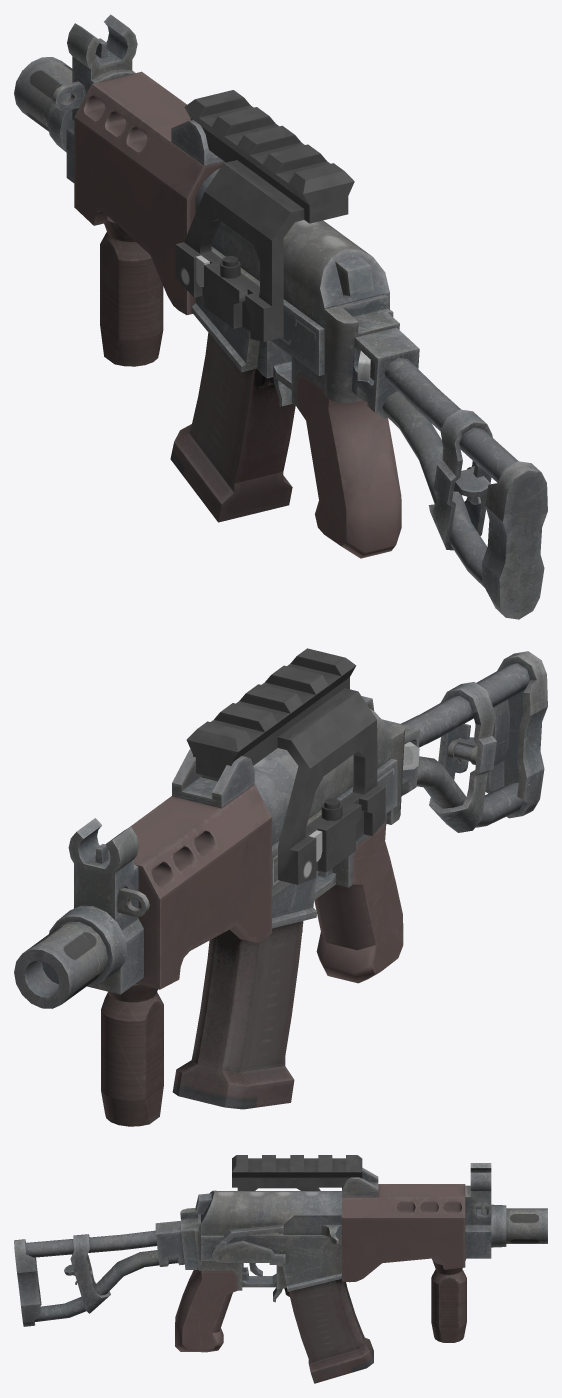
The model's file is Agent_Handheld_Gun_SR3M.fbx.
The picture shows the model from 3 angles, top to bottom: view 1: azimuth 30°, elevation 25°; view 2: azimuth 150°, elevation 25°; view 3: azimuth 270°, elevation 25°; orthographic projection. The views are drawn at different scales.
Parts seen in each view (by area): view 1: WPN_SR3M, HideIf_Stock, ShowIf_Scope, HideIf_Muzzle, HideIf_Scope; view 2: WPN_SR3M, ShowIf_Scope, HideIf_Stock, HideIf_Muzzle, HideIf_Scope; view 3: WPN_SR3M, HideIf_Stock, ShowIf_Scope, HideIf_Muzzle, HideIf_Scope.
Boxes of the visible parts, left/top/right/bottom form: WPN_SR3M: left=52, top=14, right=401, bottom=558; HideIf_Stock: left=351, top=327, right=547, bottom=619; ShowIf_Scope: left=175, top=90, right=354, bottom=341; HideIf_Muzzle: left=14, top=57, right=72, bottom=152; HideIf_Scope: left=171, top=120, right=223, bottom=165; WPN_SR3M: left=68, top=696, right=405, bottom=1126; ShowIf_Scope: left=186, top=648, right=385, bottom=884; HideIf_Stock: left=382, top=651, right=547, bottom=832; HideIf_Muzzle: left=14, top=905, right=127, bottom=1008; HideIf_Scope: left=172, top=749, right=254, bottom=808; WPN_SR3M: left=175, top=1163, right=491, bottom=1383; HideIf_Stock: left=14, top=1220, right=184, bottom=1326; ShowIf_Scope: left=232, top=1155, right=362, bottom=1190; HideIf_Muzzle: left=491, top=1204, right=547, bottom=1247; HideIf_Scope: left=342, top=1167, right=378, bottom=1197.
Size of the model in its own units: 0.1218 by 0.3458 by 0.7817.
